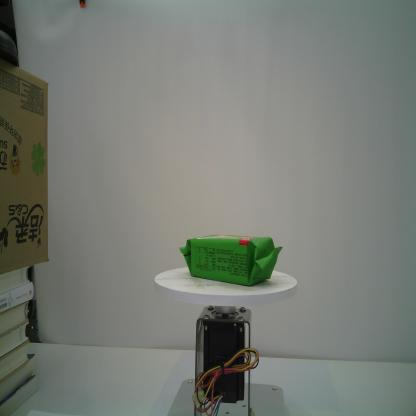Dessert: (178, 234, 283, 286)
